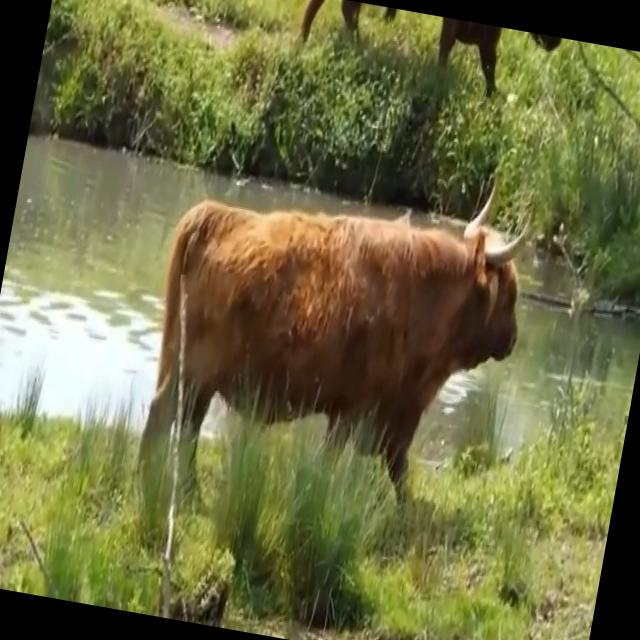cow: (139, 192, 520, 487)
